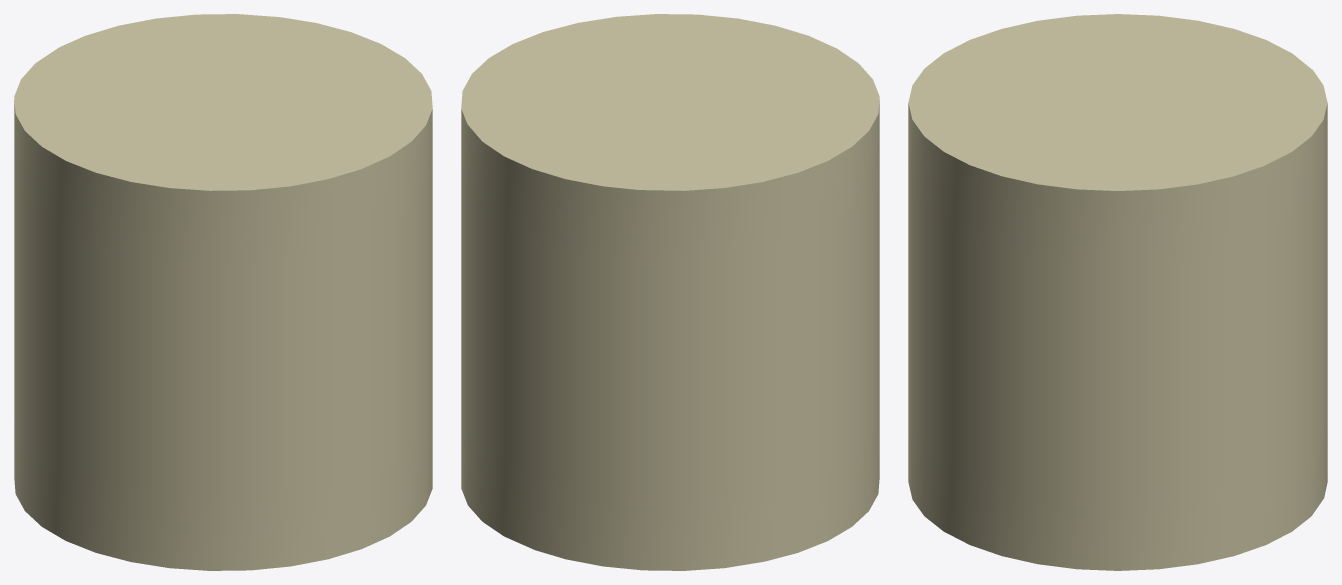
3 views of the same model, side by side, from view 1: azimuth 30°, elevation 25°; view 2: azimuth 150°, elevation 25°; view 3: azimuth 270°, elevation 25° (orthographic).
Parts seen in each view (by area): view 1: Shape_Cylinder; view 2: Shape_Cylinder; view 3: Shape_Cylinder.
Part boxes in pixels (<box>): Shape_Cylinder: <box>14,14,432,570</box>; Shape_Cylinder: <box>461,14,879,570</box>; Shape_Cylinder: <box>908,14,1327,570</box>.
Size of what is drawn, in the model's own units: 100 by 100 by 100.
